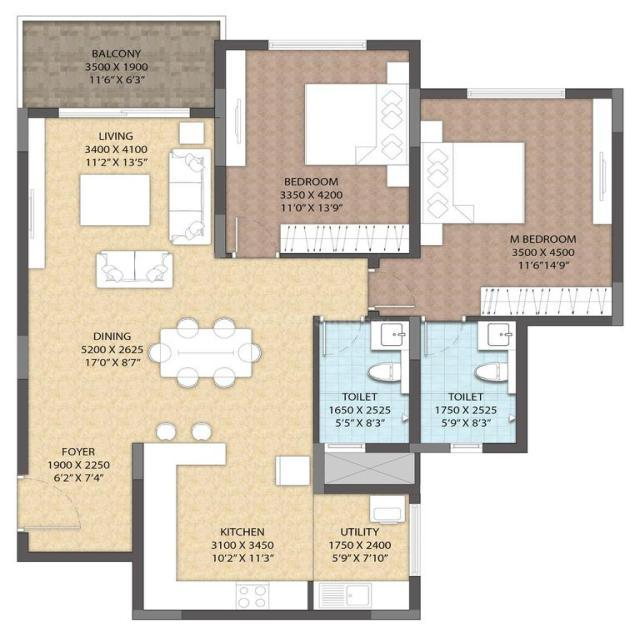Balcony-Sitout: (22, 21, 219, 108)
Bedroom: (225, 49, 411, 254)
Bedroom with Toilet: (371, 95, 616, 446)
Dining: (147, 316, 263, 393)
Enterance-Foyer: (16, 446, 130, 536)
Kitchen: (144, 443, 310, 610)
Living: (28, 118, 214, 292)
Toilet: (420, 322, 516, 442), (320, 322, 409, 442)
Utility: (315, 494, 409, 609)
